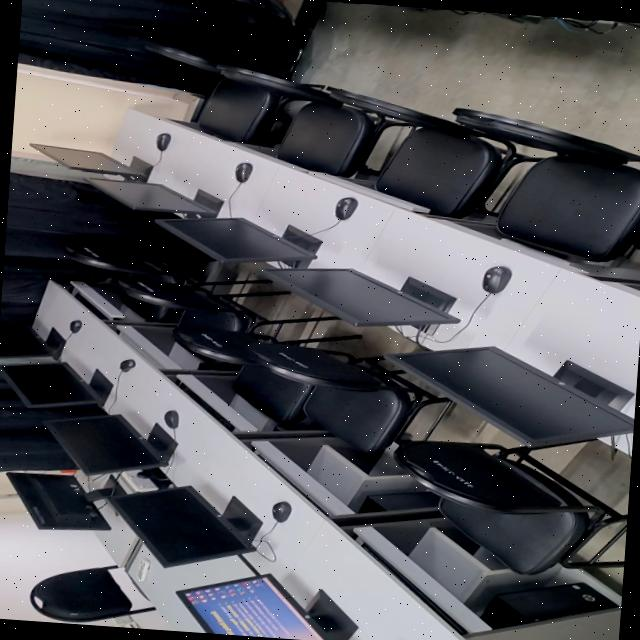Chair: (386, 436, 632, 566), (435, 106, 640, 260), (320, 88, 495, 208), (215, 62, 378, 170), (242, 340, 404, 447), (132, 34, 273, 135), (169, 326, 305, 422), (22, 553, 140, 628), (114, 276, 252, 331), (61, 242, 190, 280)
Cpu: (480, 570, 618, 628), (358, 482, 433, 514)
Monitor: (382, 339, 638, 450), (257, 259, 463, 334), (176, 569, 365, 640), (110, 481, 266, 567), (140, 211, 322, 268), (46, 406, 170, 478), (1, 464, 113, 534), (81, 174, 225, 220), (0, 356, 103, 412), (27, 142, 155, 182), (0, 322, 61, 356)
Mouse: (474, 260, 516, 296), (228, 158, 258, 184), (332, 194, 359, 220), (150, 128, 176, 152), (271, 498, 293, 521), (160, 408, 183, 428), (60, 316, 87, 332), (114, 354, 138, 372), (383, 637, 421, 640)
